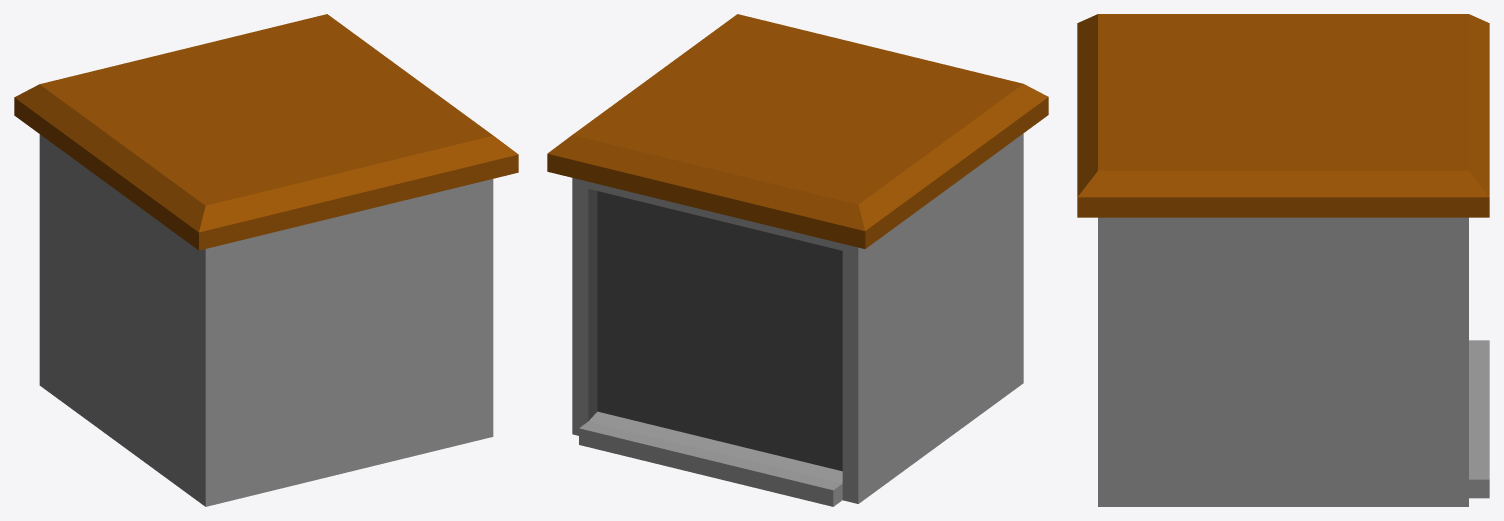
The model's file is Depot.fbx.
3 views of the same model, side by side, from view 1: azimuth 30°, elevation 25°; view 2: azimuth 150°, elevation 25°; view 3: azimuth 270°, elevation 25° (orthographic). The views are drawn at different scales.
Parts seen in each view (by area): view 1: Depot; view 2: Depot; view 3: Depot.
Part boxes in pixels (x1=…): Depot: x1=14, y1=14, x2=518, y2=506; Depot: x1=547, y1=14, x2=1048, y2=506; Depot: x1=1077, y1=14, x2=1489, y2=506.
Size of the model in its own units: 100 by 90 by 100.
